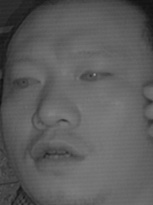eye: (78, 64, 113, 87), (12, 71, 44, 91)
mouth: (28, 135, 88, 174)
